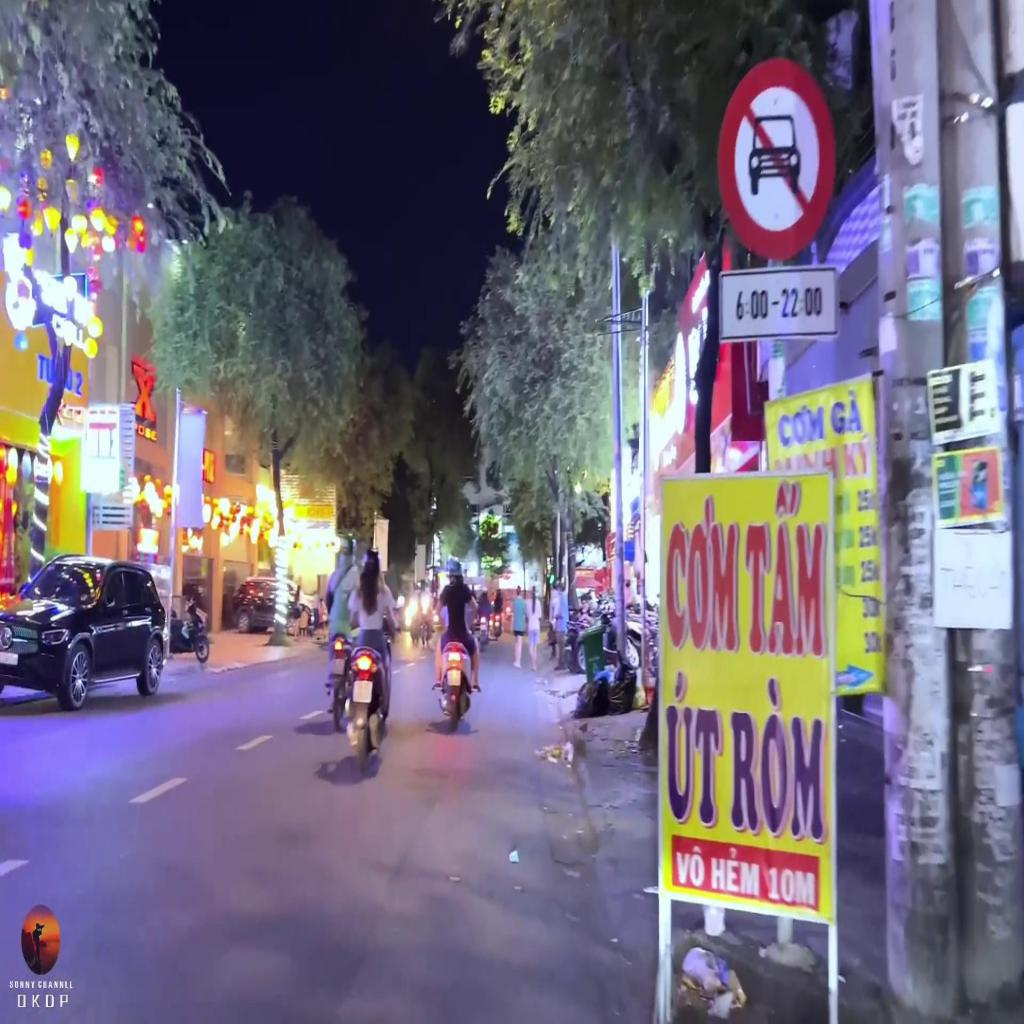cam_o_to: (718, 57, 838, 261)
khac: (719, 267, 838, 345)
